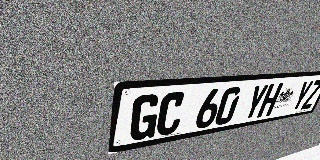0: (213, 86, 243, 126)
6: (194, 88, 224, 130)
C: (155, 91, 187, 137)
G: (128, 93, 162, 142)
H: (256, 83, 284, 118)
Y: (241, 84, 269, 121), (289, 80, 314, 112)
Z: (300, 79, 320, 110)
